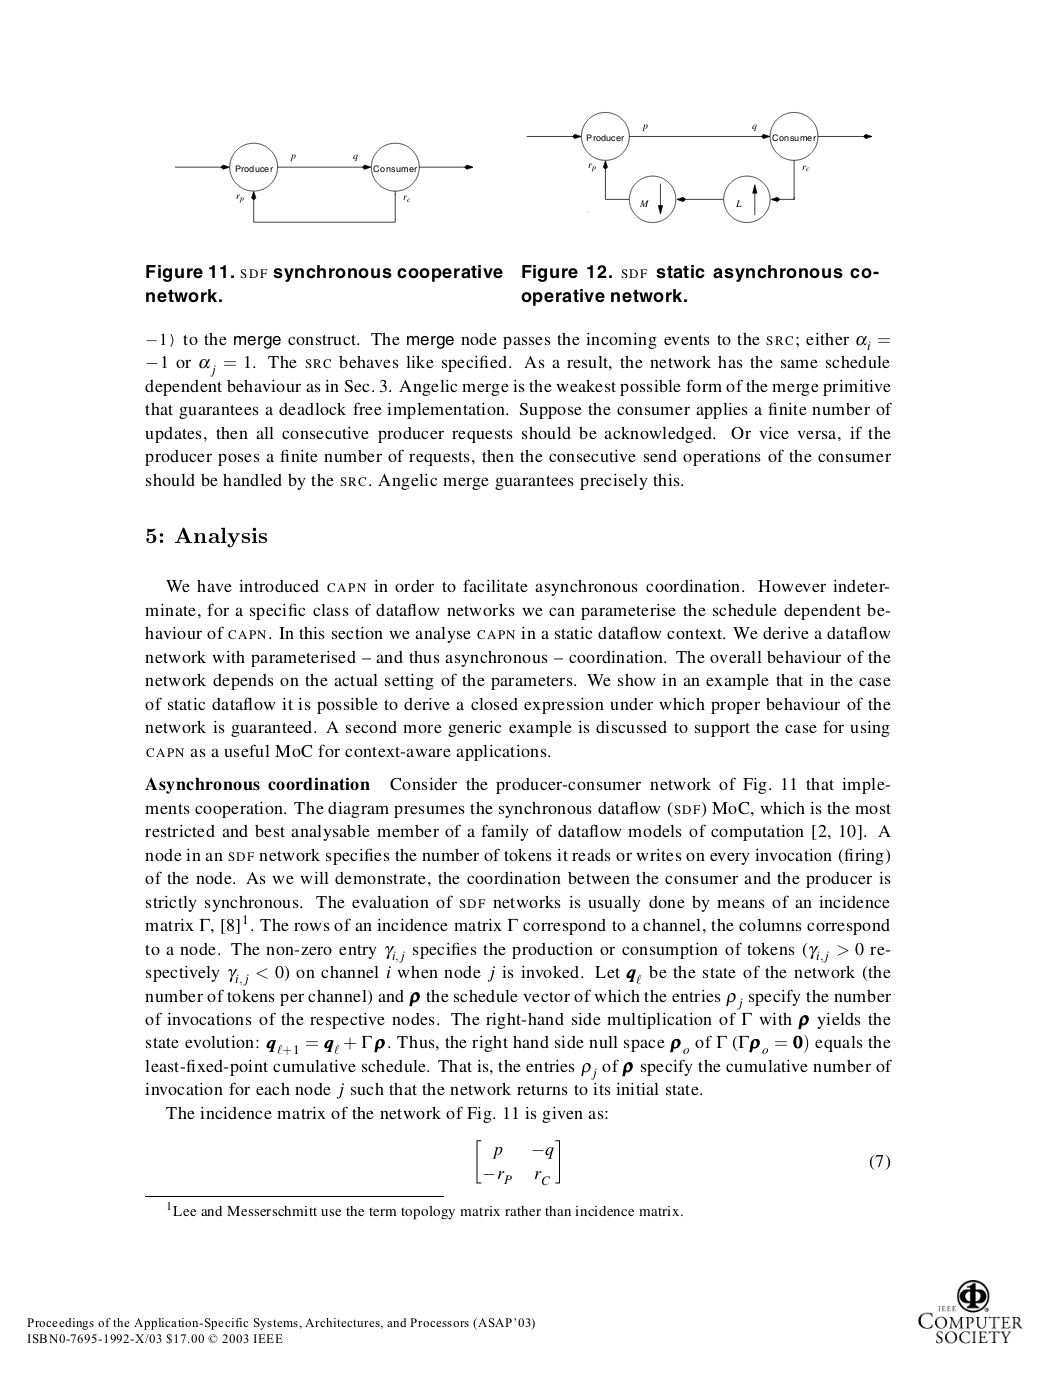figure: (526, 111, 872, 222), (175, 142, 473, 222), (918, 1281, 1022, 1343)
formula: (476, 1138, 890, 1186)
